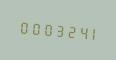four: (72, 21, 82, 42)
one: (83, 22, 93, 43)
three: (50, 19, 60, 40)
two: (61, 20, 71, 41)
zero: (17, 16, 27, 37), (28, 17, 38, 38), (39, 18, 49, 39)
